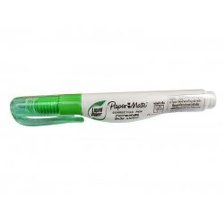correction_fluid: (5, 87, 218, 129)
